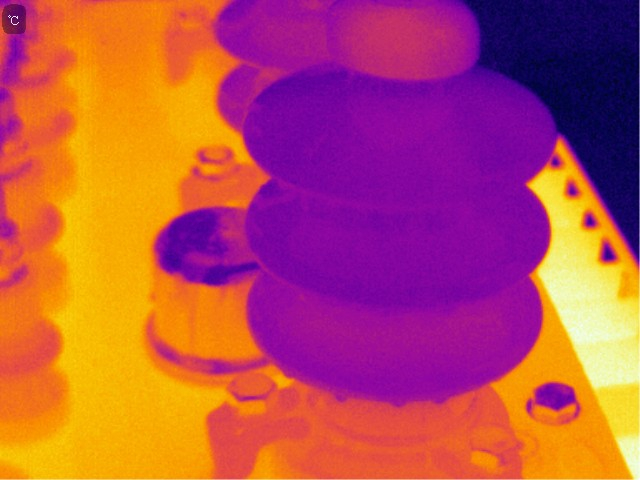Oil: (331, 386, 349, 405), (386, 395, 409, 409), (429, 390, 447, 407)
